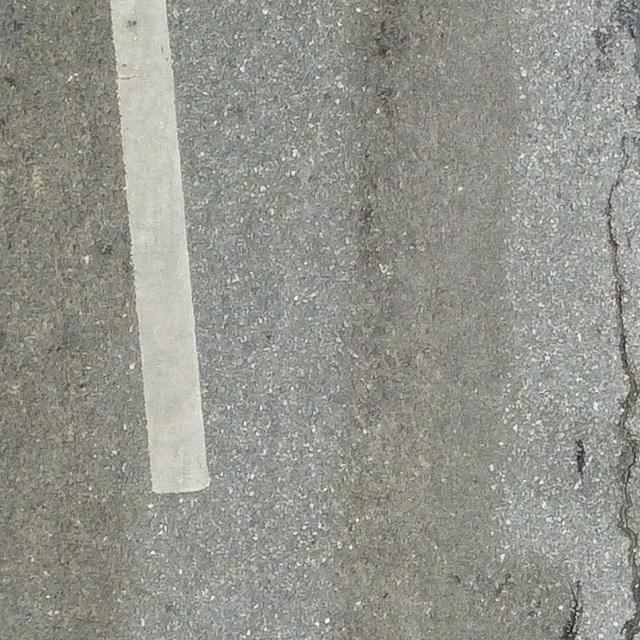LongitudinalCrack: (608, 155, 640, 640)
